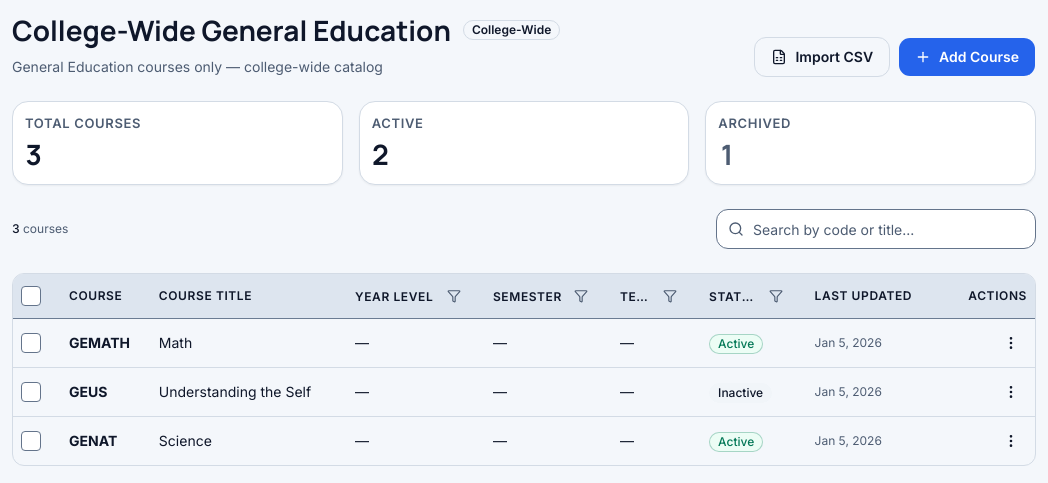
Test: GenEdCoursesCatalog › filters by search code/title
This screenshot has width=1048, height=483.
Step 1. Type "GEUS" into the search field with placeholder "Search by code or title..." → (876, 229), box 716,209 -> 1036,249
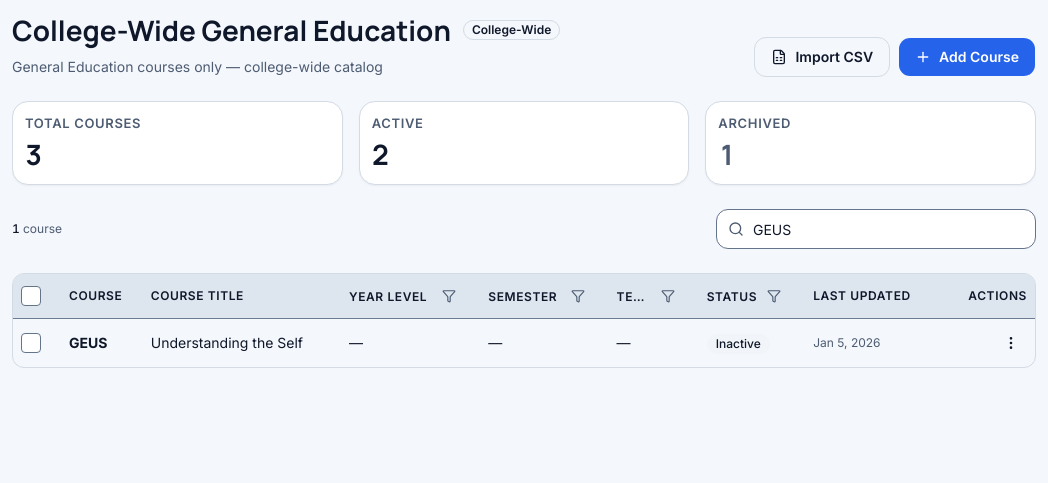
Expected: the text "GEUS" is shown, 69,334 -> 107,351
Now the text "GEMATH" is gone
Step 2. Clear the search field with placeholder "Search by code or title..." → (876, 229), box 716,209 -> 1036,249
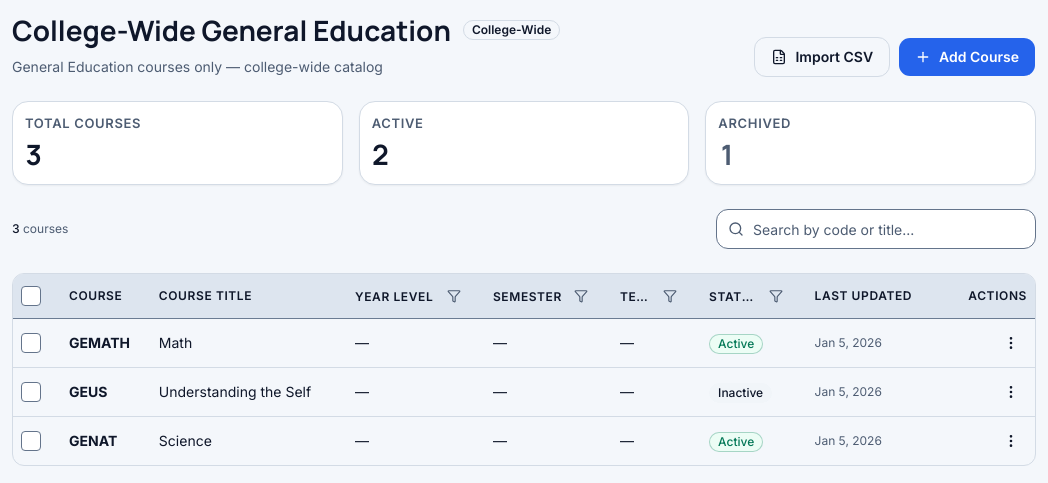
Now the text "GEMATH" is shown, box 69,334 -> 130,351
